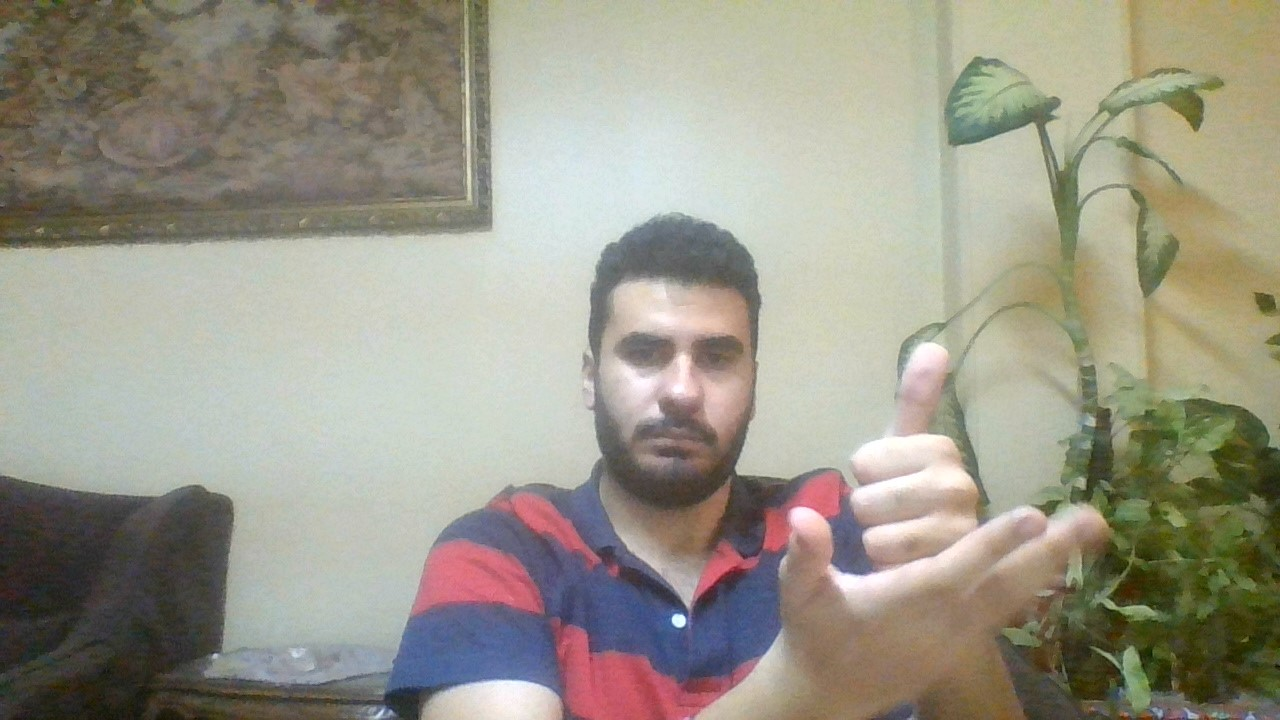help: (769, 332, 1102, 686)
